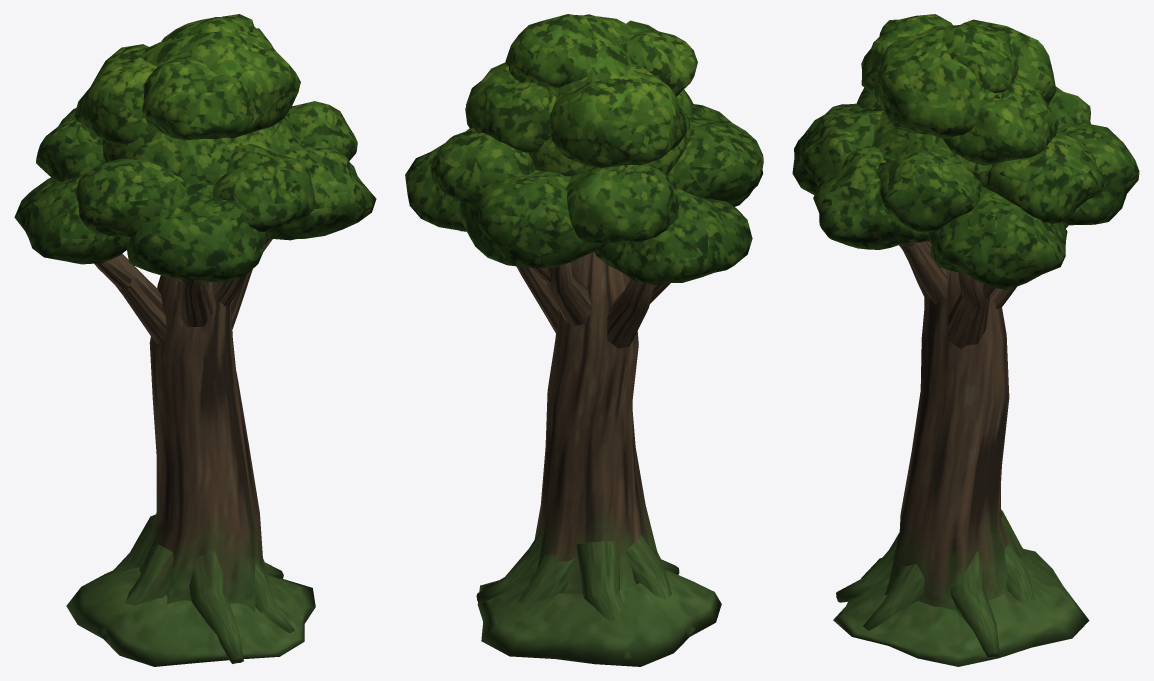
The model's file is oak_tree.glb.
The picture shows the model from 3 angles, left to right: view 1: azimuth 30°, elevation 25°; view 2: azimuth 150°, elevation 25°; view 3: azimuth 270°, elevation 25°; orthographic projection.
Visible parts, largest first — view 1: Oak_Canopy, Oak_Trunk; view 2: Oak_Canopy, Oak_Trunk; view 3: Oak_Canopy, Oak_Trunk.
Part boxes in pixels (box(x1,y1,x2,y2)): Oak_Canopy: box(14, 14, 376, 282); Oak_Trunk: box(66, 236, 315, 666); Oak_Canopy: box(405, 14, 763, 285); Oak_Trunk: box(476, 251, 721, 666); Oak_Canopy: box(792, 14, 1139, 289); Oak_Trunk: box(833, 225, 1089, 666).
Bounding box in the file's own units: 1.18 × 2.16 × 1.14.
Materials: 2 (2 with a texture image).
